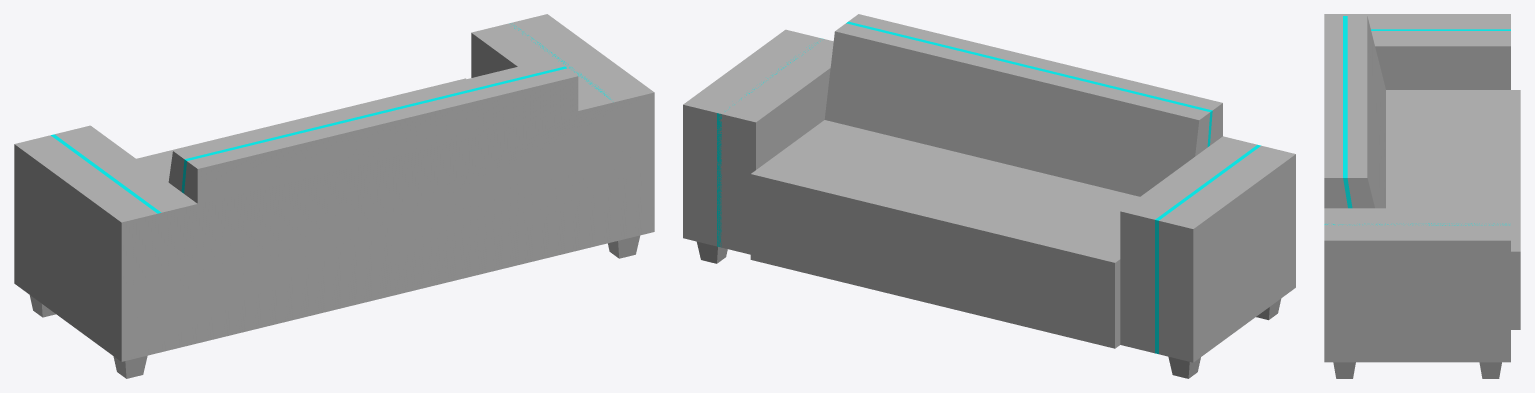
Rendered from loungeDesignSofa.glb.
3 views of the same model, side by side, from view 1: azimuth 30°, elevation 25°; view 2: azimuth 150°, elevation 25°; view 3: azimuth 270°, elevation 25° (orthographic). The views are drawn at different scales.
Parts seen in each view (by area): view 1: loungeDesignSofa; view 2: loungeDesignSofa; view 3: loungeDesignSofa.
Boxes of the visible parts, x1,y1,x2,y2 form: loungeDesignSofa: [14, 14, 654, 378]; loungeDesignSofa: [683, 14, 1295, 378]; loungeDesignSofa: [1324, 14, 1520, 378].
Size of the model in its own units: 2.24 by 0.7989 by 0.8189.
